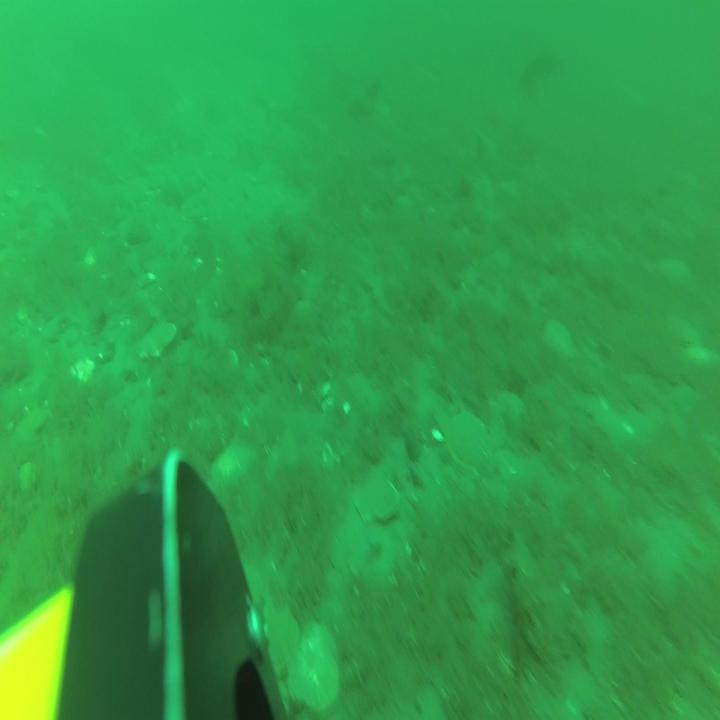scallop: (290, 622, 341, 715), (264, 609, 299, 677), (448, 411, 487, 468), (356, 474, 399, 524), (138, 322, 177, 360), (545, 318, 575, 364)
